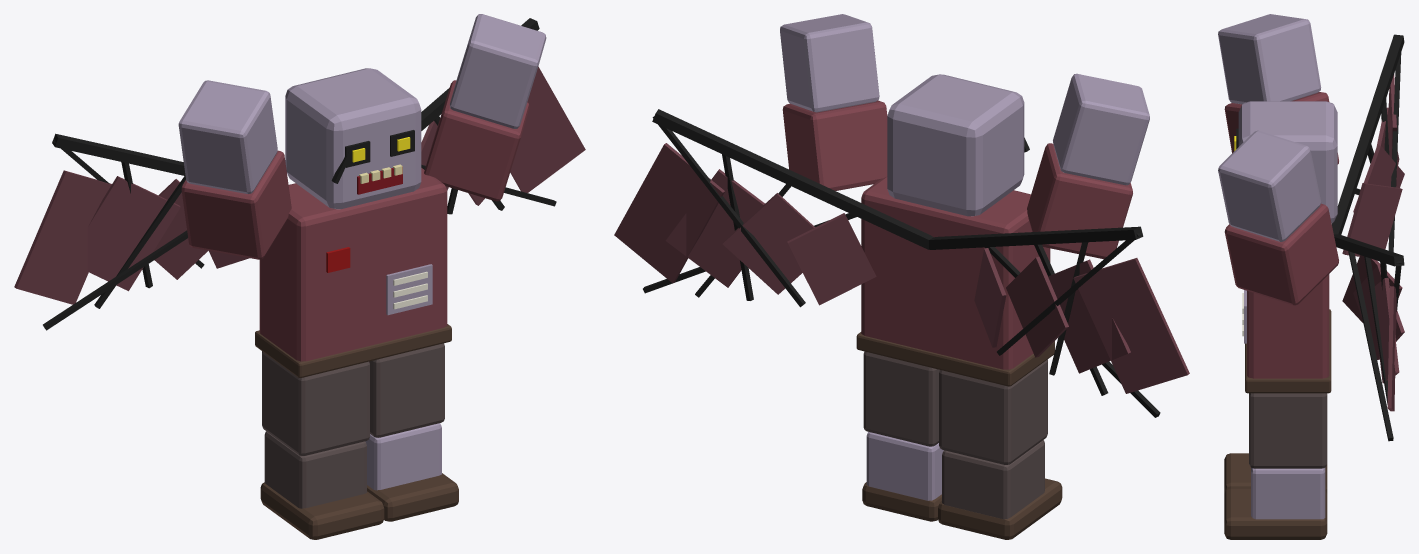
Rendered from zombi_alado.glb.
The picture shows the model from 3 angles, left to right: view 1: azimuth 30°, elevation 25°; view 2: azimuth 150°, elevation 25°; view 3: azimuth 270°, elevation 25°; orthographic projection. The views are drawn at different scales.
Visible parts, largest first — view 1: Torso, LeftLeg, Head, LeftArm, RightArm, RightLeg; view 2: Torso, LeftLeg, Head, RightArm, LeftArm, RightLeg; view 3: Torso, RightArm, RightLeg, LeftArm, Head, LeftLeg.
Part boxes in pixels (box(x1,y1,x2,y2)): Torso: box(14, 18, 585, 377); LeftLeg: box(260, 351, 384, 539); Head: box(285, 68, 421, 209); LeftArm: box(178, 80, 291, 259); RightArm: box(424, 14, 546, 201); RightLeg: box(365, 343, 458, 521); Torso: box(614, 109, 1189, 417); LeftLeg: box(938, 359, 1062, 539); Head: box(887, 74, 1029, 216); RightArm: box(780, 14, 887, 190); LeftArm: box(1027, 73, 1149, 259); RightLeg: box(862, 351, 943, 521); Torso: box(1242, 34, 1404, 441); RightArm: box(1218, 130, 1338, 305); RightLeg: box(1224, 393, 1327, 539); LeftArm: box(1218, 14, 1338, 164); Head: box(1234, 101, 1337, 223); LeftLeg: box(1224, 453, 1327, 493).
Size of the model in its own units: 7.6 by 5.7 by 2.27.
Materials: 1 (1 with a texture image).
